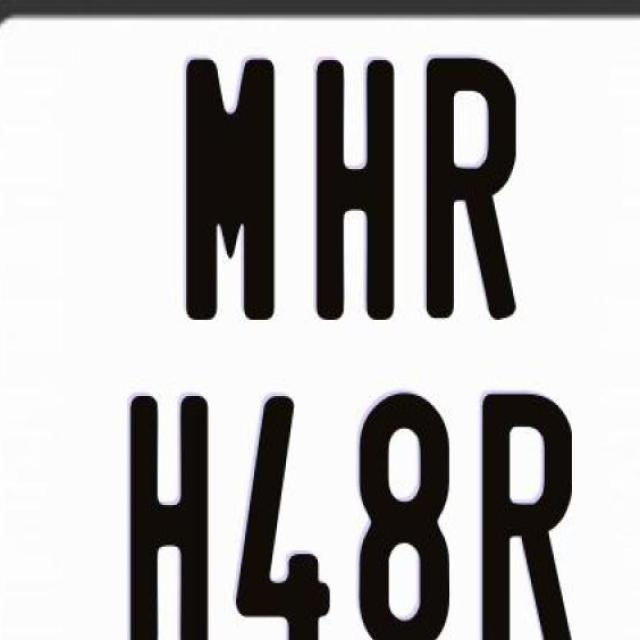license-plate: (10, 13, 640, 634)
